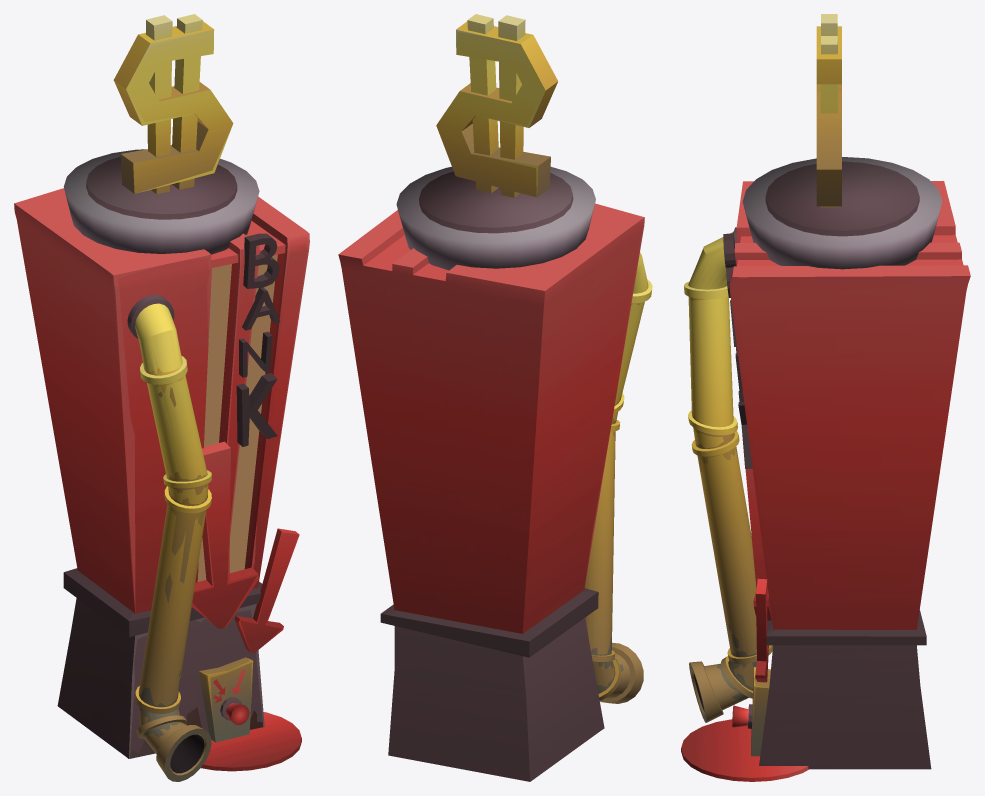
File: SM_Bank_rouge.fbx
3 renders of one model, left to right at view 1: azimuth 30°, elevation 25°; view 2: azimuth 150°, elevation 25°; view 3: azimuth 270°, elevation 25°, orthographic.
Parts seen in each view (by area): view 1: Cylinder.015, Cube.045; view 2: Cylinder.015, Cube.045; view 3: Cylinder.015, Cube.045.
Part boxes in pixels (x1,y1,x2,y2): Cylinder.015: (14, 188, 309, 781); Cube.045: (63, 14, 259, 254); Cylinder.015: (338, 203, 652, 781); Cube.045: (396, 14, 595, 270); Cylinder.015: (681, 181, 970, 781); Cube.045: (742, 14, 942, 269).
Size of the model in its own units: 11.9 by 41.41 by 15.11.
